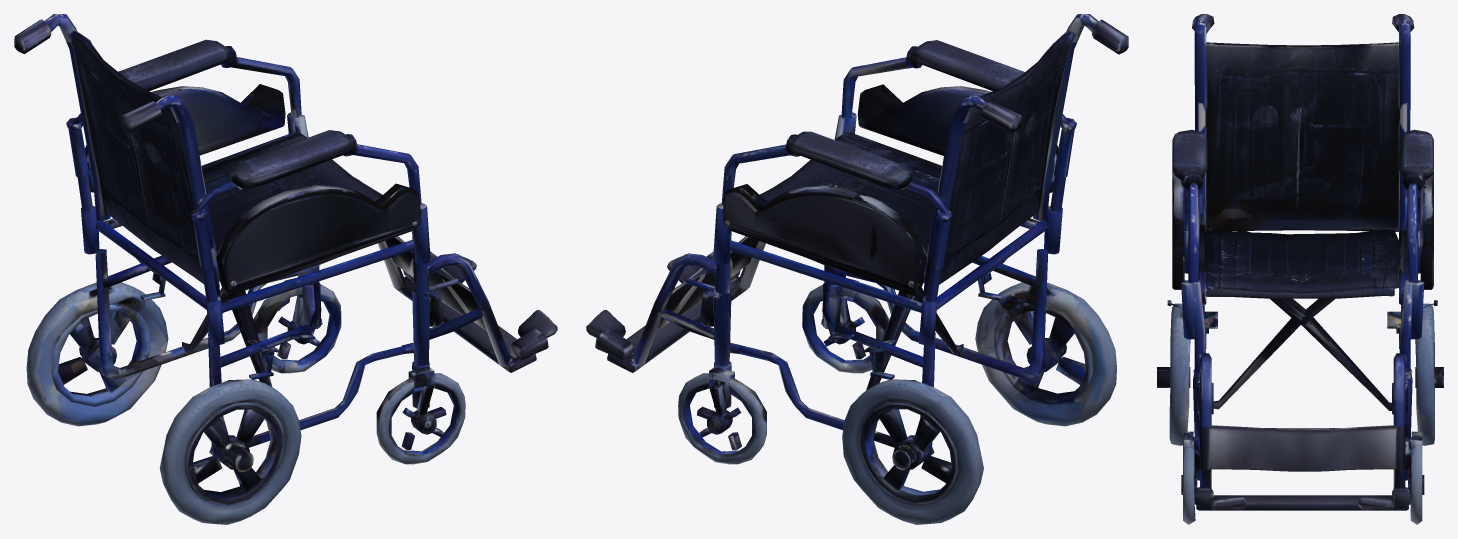
File: wheelchair2.fbx
3 views of the same model, side by side, from view 1: azimuth 30°, elevation 25°; view 2: azimuth 150°, elevation 25°; view 3: azimuth 270°, elevation 25° (orthographic). The views are drawn at different scales.
Visible parts, largest first — view 1: tripo_node_5e20fb9c; view 2: tripo_node_5e20fb9c; view 3: tripo_node_5e20fb9c.
Boxes of the visible parts, x1,y1,x2,y2 form: tripo_node_5e20fb9c: [14, 14, 557, 524]; tripo_node_5e20fb9c: [586, 14, 1128, 524]; tripo_node_5e20fb9c: [1157, 14, 1443, 524].
Size of the model in its own units: 94.97 by 89.11 by 58.56.
Materials: 1 (1 with a texture image).
